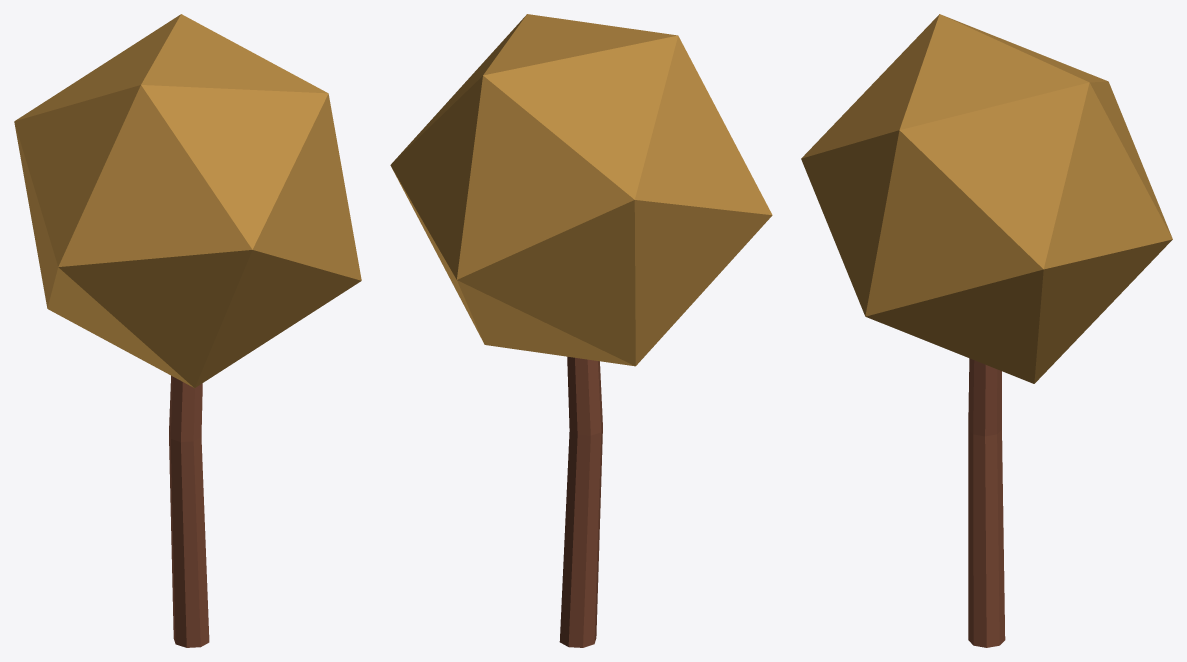
Rendered from Tree_40_autumn_mat.fbx.
3 views of the same model, side by side, from view 1: azimuth 30°, elevation 25°; view 2: azimuth 150°, elevation 25°; view 3: azimuth 270°, elevation 25° (orthographic). The views are drawn at different scales.
Parts seen in each view (by area): view 1: Tree_40_autumn_mat; view 2: Tree_40_autumn_mat; view 3: Tree_40_autumn_mat.
Part boxes in pixels (x1=…): Tree_40_autumn_mat: x1=14, y1=14, x2=361, y2=647; Tree_40_autumn_mat: x1=390, y1=14, x2=772, y2=647; Tree_40_autumn_mat: x1=801, y1=14, x2=1172, y2=647.
Size of the model in its own units: 110 by 196 by 112.
